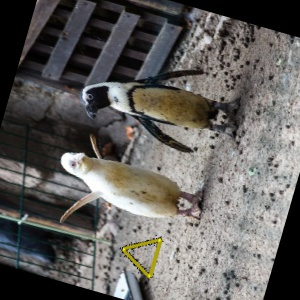triangle: (118, 235, 163, 283)
